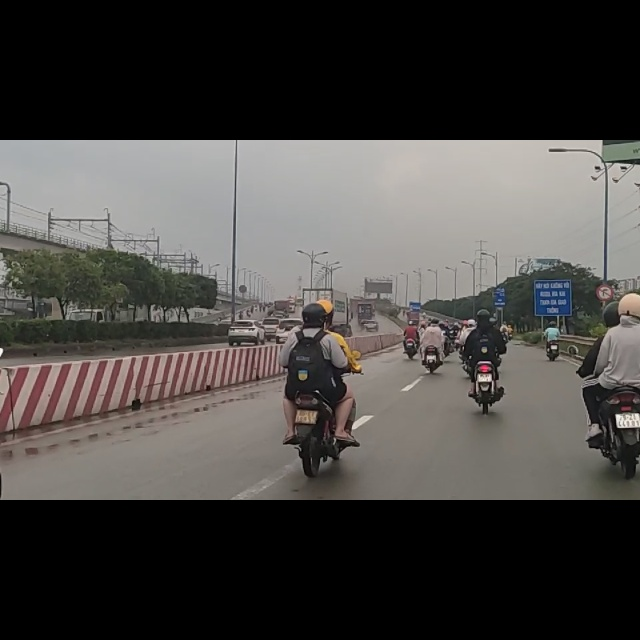bien_cam: (598, 258, 613, 289)
